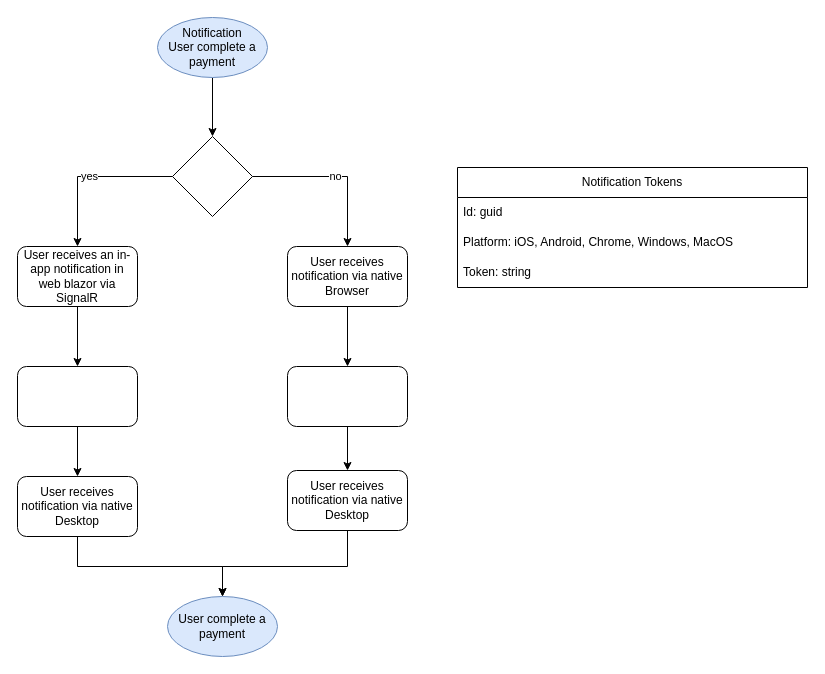
Image size: 825x674. Some labels were removed from this diagram. Each missing label, with the centre of its shape:
"Is User online on web and mobile?" belongs at [212,176].
"User receives an in-app notification in Mobile via SignalR" belongs at [77,396].
"User receives notification via native Mobile" belongs at [347,396].
